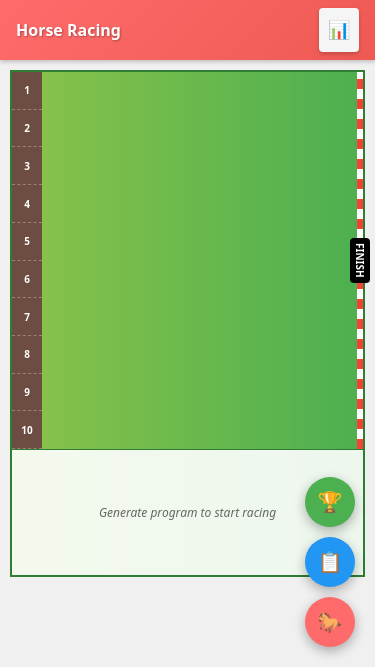
Test: Mobile Horse Racing Application › Bottom Sheets › should open horse list bottom sheet
Click the button with class "generate-btn" at [339, 30], box x1=319 y1=8 x2=359 y2=52
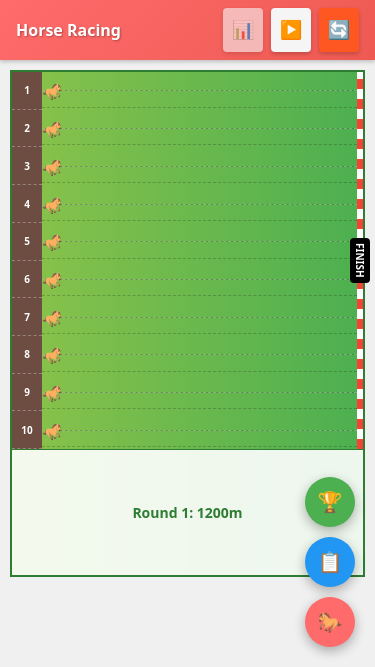
Click the button with class "floating-btn" showing "🐎" at [330, 622], box x1=305 y1=597 x2=355 y2=647
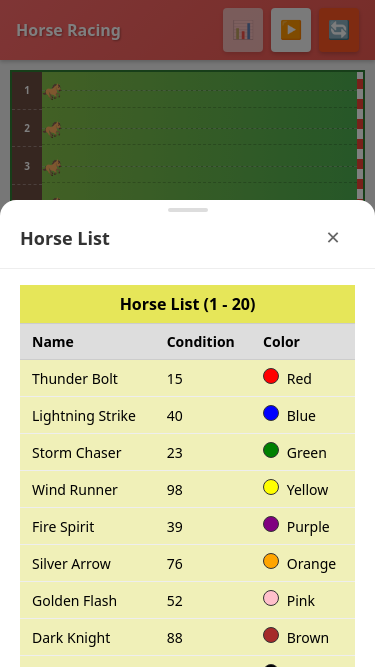
Expected: the element with class "bottom-sheet" is shown
Expected: the heading with class "bottom-sheet-title" reads "Horse List", x1=20 y1=226 x2=110 y2=250
Expected: the element with class "mobile" is shown, x1=20 y1=285 x2=355 y2=666
